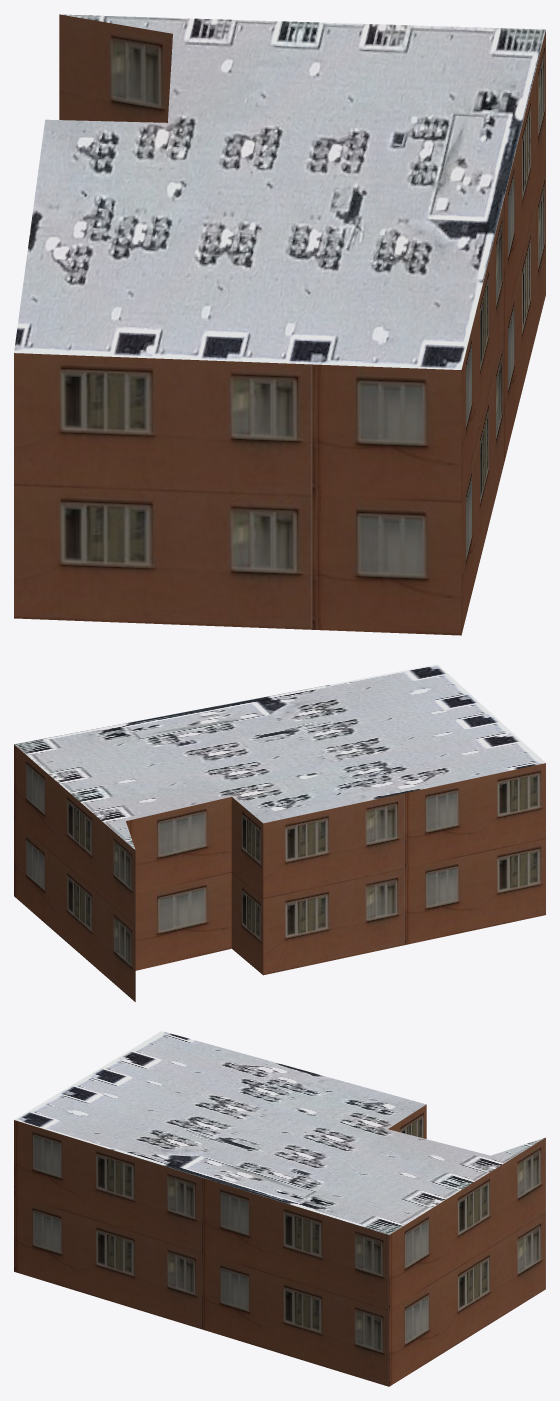
Rendered from ResTex__3035.fbx.
3 renders of one model, top to bottom at view 1: azimuth 30°, elevation 25°; view 2: azimuth 150°, elevation 25°; view 3: azimuth 270°, elevation 25°, orthographic. The views are drawn at different scales.
Parts seen in each view (by area): view 1: CityEngineMaterial_20_m, CityEngineMaterial_m; view 2: CityEngineMaterial_20_m, CityEngineMaterial_m; view 3: CityEngineMaterial_20_m, CityEngineMaterial_m.
Part boxes in pixels (box(x1,y1,x2,y2)): CityEngineMaterial_20_m: box(14, 14, 545, 635); CityEngineMaterial_m: box(14, 14, 545, 369); CityEngineMaterial_20_m: box(14, 744, 545, 1001); CityEngineMaterial_m: box(14, 664, 545, 849); CityEngineMaterial_20_m: box(14, 1104, 545, 1386); CityEngineMaterial_m: box(14, 1031, 544, 1234).
Bounding box in the file's own units: 17.28 × 6 × 19.06.
2 materials, 2 textured.
